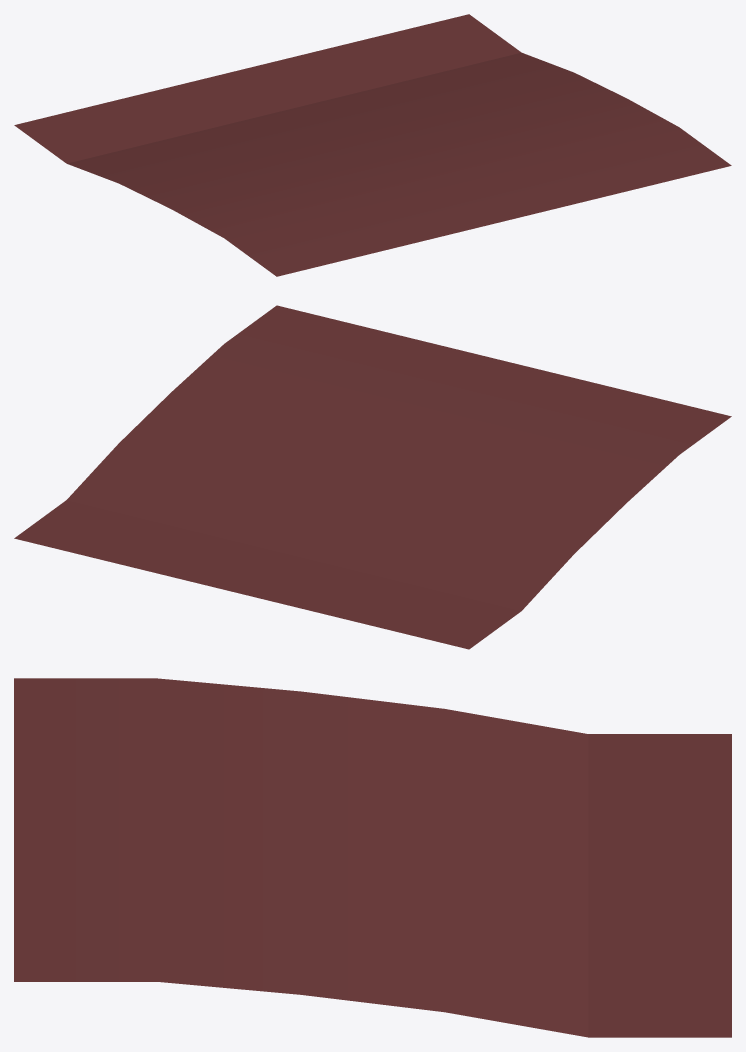
File: calleCalleLado1.fbx
3 renders of one model, top to bottom at view 1: azimuth 30°, elevation 25°; view 2: azimuth 150°, elevation 25°; view 3: azimuth 270°, elevation 25°, orthographic. The views are drawn at different scales.
Visible parts, largest first — view 1: CalleLado1; view 2: CalleLado1; view 3: CalleLado1.
Boxes of the visible parts, x1,y1,x2,y2 form: CalleLado1: (14,14,731,276); CalleLado1: (14,305,731,649); CalleLado1: (14,678,731,1037).
Size of the model in its own units: 0.05 by 0.00428 by 0.05.
